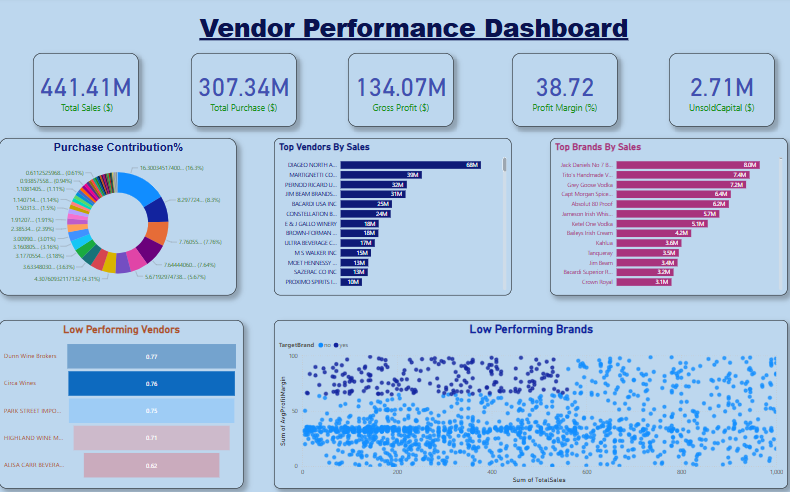

The dashboard page shown, as its layout file describes it:
{"tool":"powerbi","page":{"name":"Page 1","canvas":[1750,1080],"ordinal":0},"visuals":[{"type":"card","fields":{"Values":["vendor_sales_summary.TotalSalesDollars"]},"box":[82.8,120.1,227.7,159.4],"z":0},{"type":"card","fields":{"Values":["vendor_sales_summary.ProfitMargin"]},"box":[1115.8,120.1,227.7,159.4],"z":1000},{"type":"card","fields":{"Values":["vendor_sales_summary.GrossProfit"]},"box":[761.8,120.1,227.7,159.4],"z":2000},{"type":"card","fields":{"Values":["vendor_sales_summary.TotalPurchaseDollars"]},"box":[422.3,120.1,227.7,159.4],"z":3000},{"type":"card","fields":{"Values":["vendor_sales_summary.UnsoldCapital"]},"box":[1455.4,120.1,227.7,159.4],"z":4000},{"type":"donutChart","title":"Purchase Contribution% ","fields":{"Y":["PurchaseContribution.PurchaseContribution%"],"Category":["PurchaseContribution.VendorName"]},"box":[8.3,304.3,513.4,339.5],"z":5000},{"type":"barChart","title":"Top Vendors By Sales","fields":{"Y":["vendor_sales_summary.TotalSalesDollars"],"Category":["vendor_sales_summary.VendorName"]},"box":[602.4,304.3,513.4,339.5],"z":6000},{"type":"barChart","title":"Top Brands By Sales","fields":{"Y":["vendor_sales_summary.TotalSalesDollars"],"Category":["vendor_sales_summary.Description"]},"box":[1198.6,304.3,513.4,339.5],"z":7000},{"type":"funnel","title":"Low Performing Vendors","fields":{"Y":["LowTurnoverVendor.AvgStockTurnOver"],"Category":["LowTurnoverVendor.VendorName"]},"box":[8.3,697.7,527.9,364.4],"z":8000},{"type":"scatterChart","title":"Low Performing Brands","fields":{"Category":["BrandPerformance.Description"],"X":["BrandPerformance.TotalSales"],"Y":["BrandPerformance.AvgProfitMargin"],"Series":["BrandPerformance.TargetBrand"]},"box":[602.4,697.7,1109.6,364.4],"z":9000},{"type":"textbox","box":[399.5,20.7,1010.3,99.4],"z":10000}]}

Visuals, with their boxes in screenshot pixels (x1, y1, x2, y2), scaled from the page's 1750x1080 canvas onto the 790x492 screenshot:
card - vendor_sales_summary.TotalSalesDollars: l=37, t=55, r=140, b=127
card - vendor_sales_summary.ProfitMargin: l=504, t=55, r=606, b=127
card - vendor_sales_summary.GrossProfit: l=344, t=55, r=447, b=127
card - vendor_sales_summary.TotalPurchaseDollars: l=191, t=55, r=293, b=127
card - vendor_sales_summary.UnsoldCapital: l=657, t=55, r=760, b=127
"Purchase Contribution% " donutChart: l=4, t=139, r=236, b=293
"Top Vendors By Sales" barChart: l=272, t=139, r=504, b=293
"Top Brands By Sales" barChart: l=541, t=139, r=773, b=293
"Low Performing Vendors" funnel: l=4, t=318, r=242, b=484
"Low Performing Brands" scatterChart: l=272, t=318, r=773, b=484
textbox: l=180, t=9, r=636, b=55
